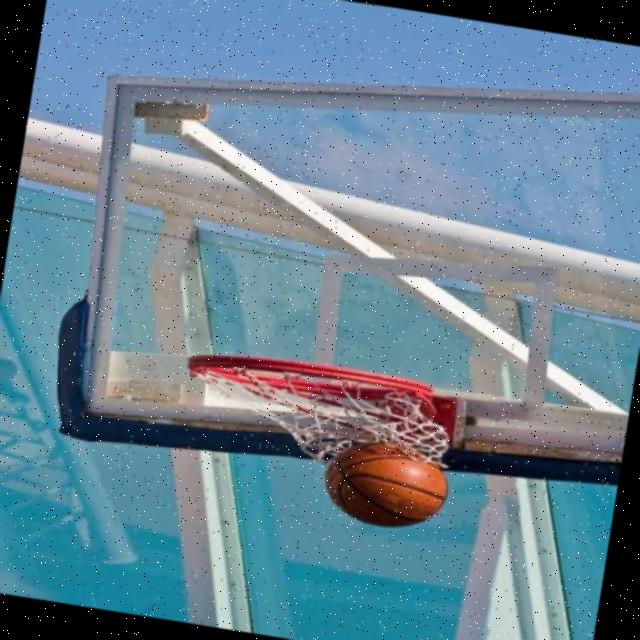ball: (316, 434, 457, 538)
hoop: (182, 346, 442, 418)
